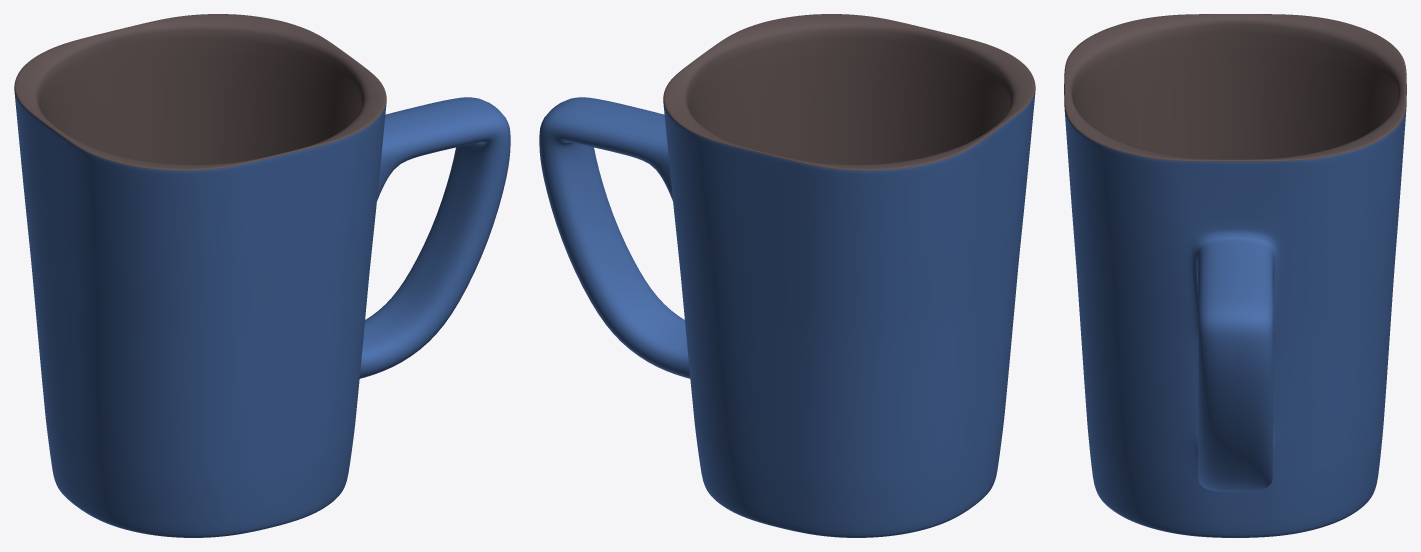
Rendered from nescafe_mug_3.glb.
3 renders of one model, left to right at view 1: azimuth 30°, elevation 25°; view 2: azimuth 150°, elevation 25°; view 3: azimuth 270°, elevation 25°, orthographic.
Visible parts, largest first — view 1: Cube_0; view 2: Cube_0; view 3: Cube_0.
Boxes of the visible parts, bbox=[...] form: Cube_0: bbox=[14, 14, 510, 537]; Cube_0: bbox=[539, 14, 1035, 537]; Cube_0: bbox=[1064, 14, 1406, 537].
Size of the model in its own units: 10.1 by 8.3 by 6.6.
